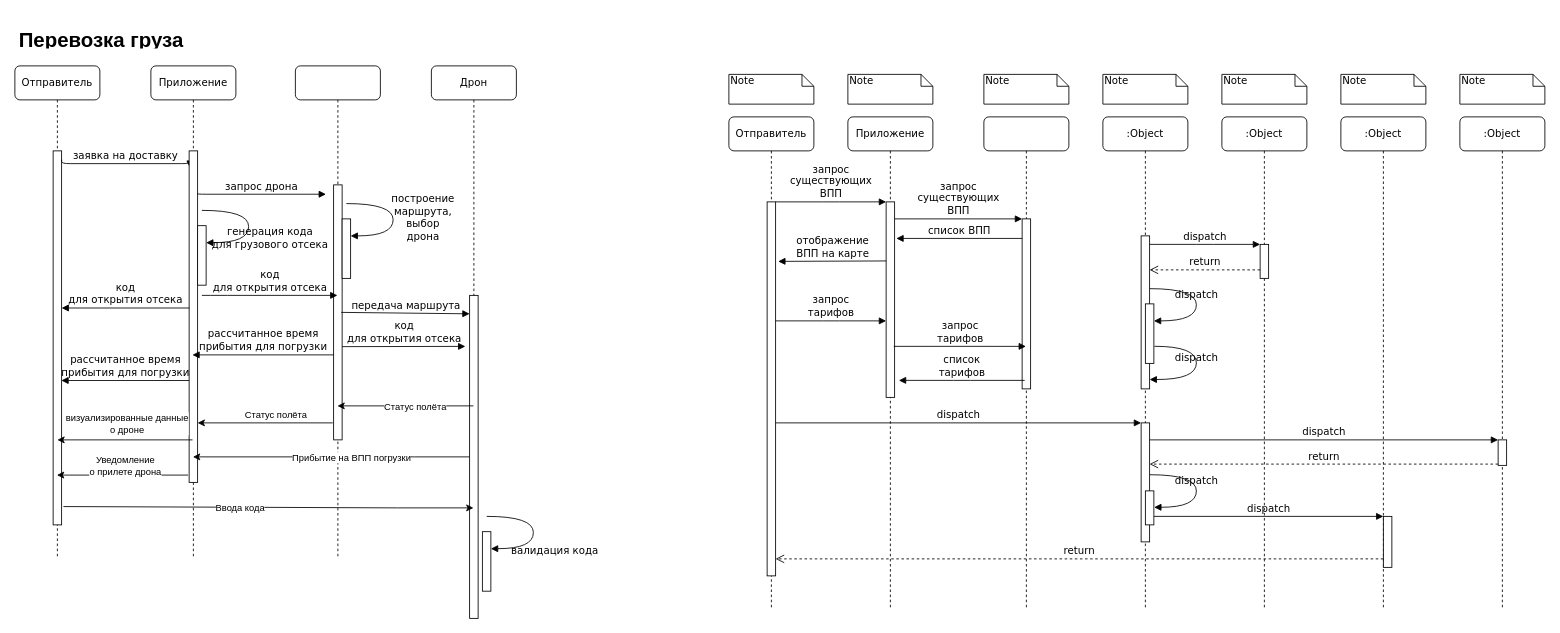
This 1560x633 diagram has some shape labels left out. The shapes that lost their labels are listed below. From the top down, each one's box as (x1, y1, x2, y2) in pixels, then its label:
(295, 65, 380, 559): Диспетчерская
(983, 116, 1069, 610): СУБД
